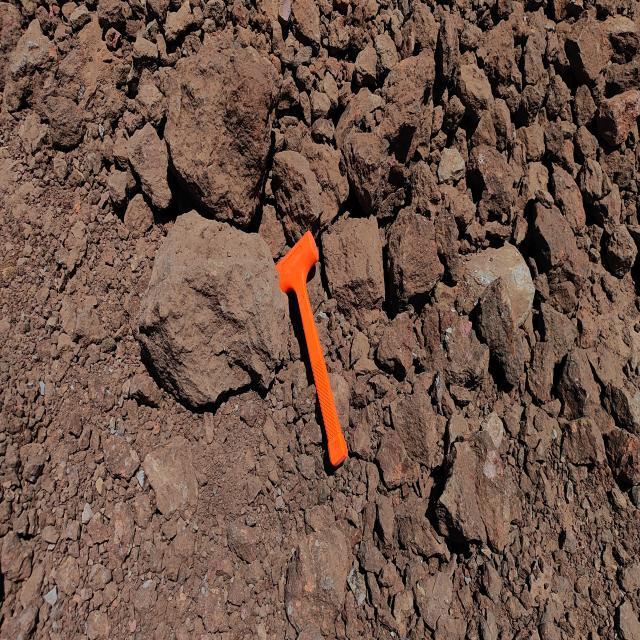Orange_hammer: (275, 228, 349, 468)
